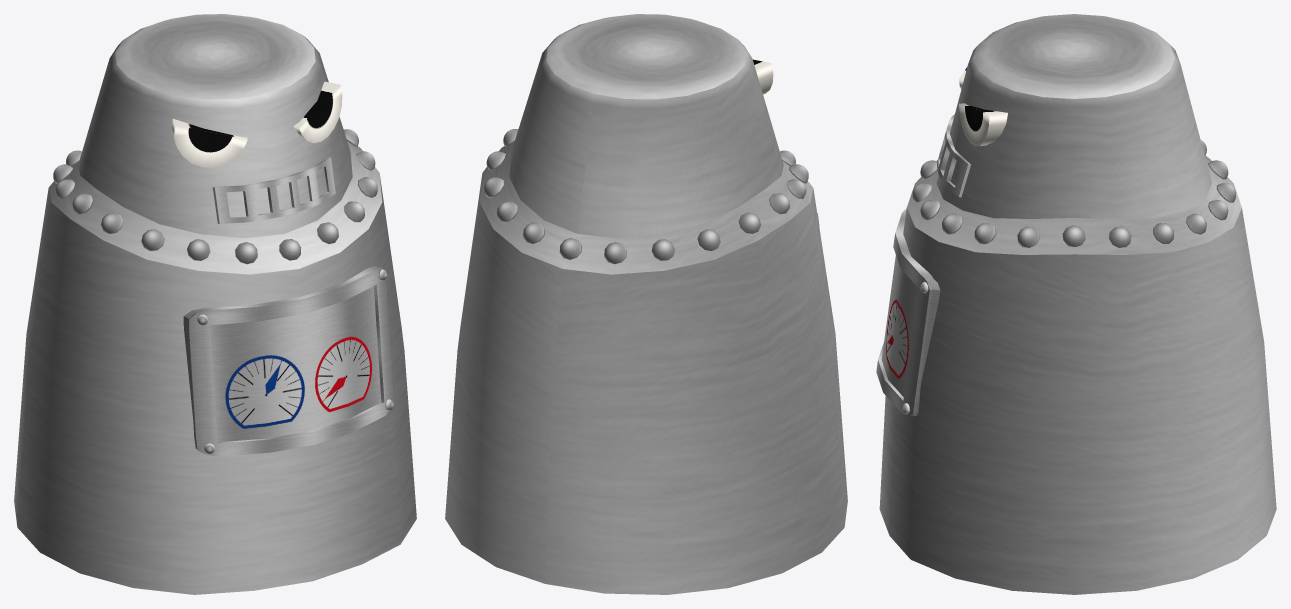
File: robot.fbx
The picture shows the model from 3 angles, left to right: view 1: azimuth 30°, elevation 25°; view 2: azimuth 150°, elevation 25°; view 3: azimuth 270°, elevation 25°; orthographic projection.
Visible parts, largest first — view 1: robot, meter, mouth1, eye_right, eye_left; view 2: robot; view 3: robot, meter, eye_left, mouth1.
Boxes of the visible parts, box(x1,y1,x2,y2) form: robot: box(14, 14, 416, 594); meter: box(183, 265, 393, 456); mouth1: box(212, 157, 335, 223); eye_right: box(172, 118, 247, 167); eye_left: box(293, 81, 342, 143); robot: box(445, 14, 847, 594); robot: box(879, 14, 1276, 594); meter: box(876, 208, 940, 415); eye_left: box(959, 103, 1007, 146); mouth1: box(937, 114, 970, 197).
Size of the model in its own units: 800 by 1000 by 792.
